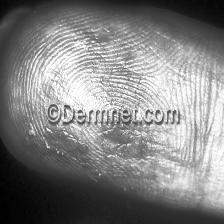Non-Cancerous Skin Condition: (34, 22, 184, 102), (66, 136, 224, 186)
